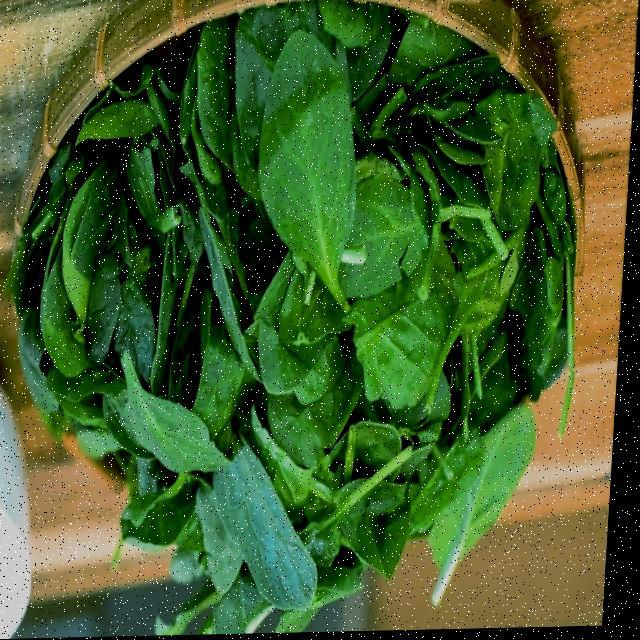Spinach: (4, 2, 600, 639)
